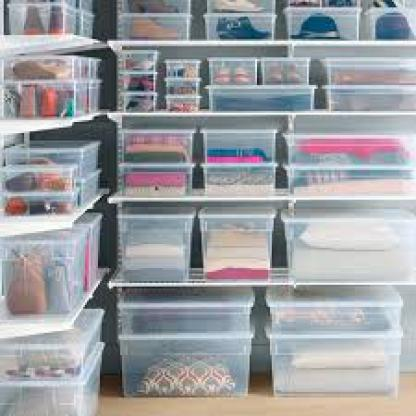plastic_box: (106, 284, 256, 398), (115, 198, 196, 285)
